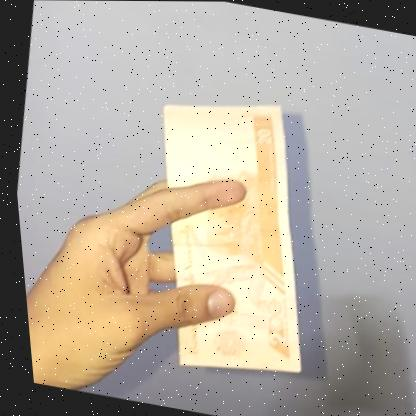twenty-back-vef: (115, 85, 341, 387)
